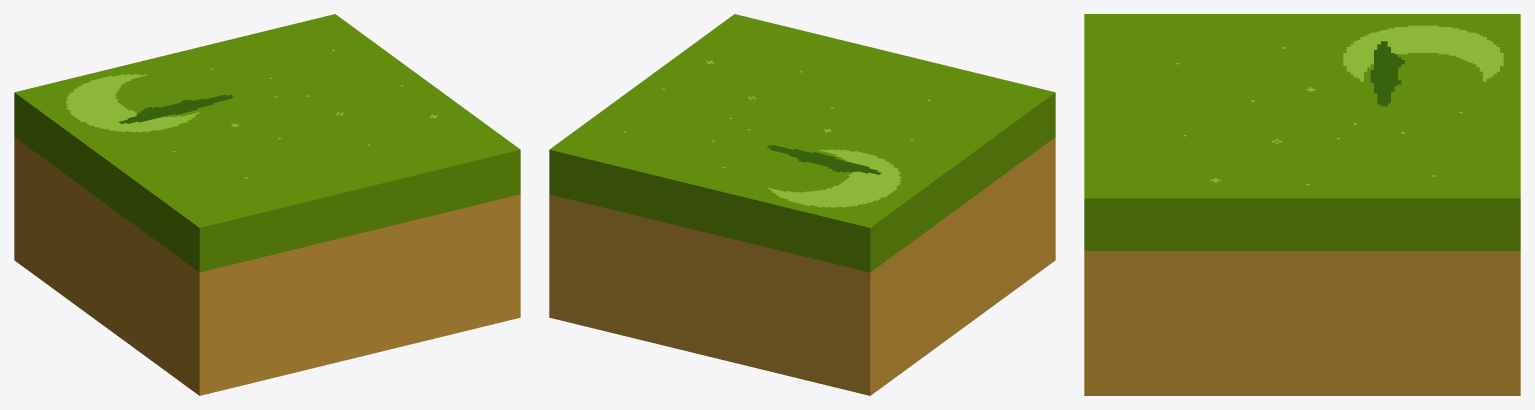
3 views of the same model, side by side, from view 1: azimuth 30°, elevation 25°; view 2: azimuth 150°, elevation 25°; view 3: azimuth 270°, elevation 25° (orthographic). The views are drawn at different scales.
Visible parts, largest first — view 1: 12N; view 2: 12N; view 3: 12N.
Boxes of the visible parts, left/top/right/bottom form: 12N: left=14, top=14, right=520, bottom=395; 12N: left=549, top=14, right=1055, bottom=395; 12N: left=1084, top=14, right=1520, bottom=395.
Bounding box in the file's own units: 12.8 × 6.4 × 12.8.
1 material, 1 textured.
